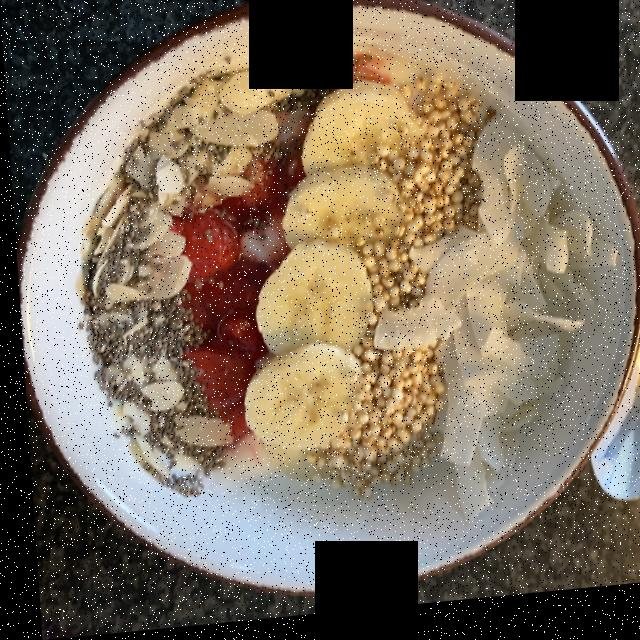almonds: (94, 68, 296, 488)
banana: (250, 89, 403, 461)
chia-grains: (77, 187, 221, 499)
coconut: (368, 139, 618, 536)
fruit-coulis: (187, 179, 280, 443)
